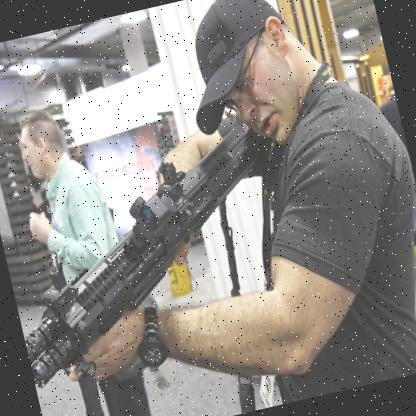rifle: (0, 97, 316, 410)
